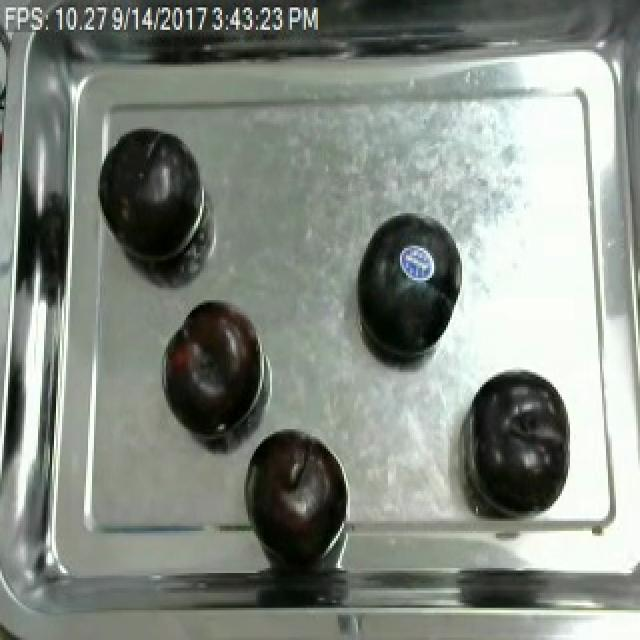Fruit: (350, 206, 470, 367), (96, 121, 210, 268), (462, 369, 574, 518), (160, 293, 262, 439), (244, 424, 342, 543)
